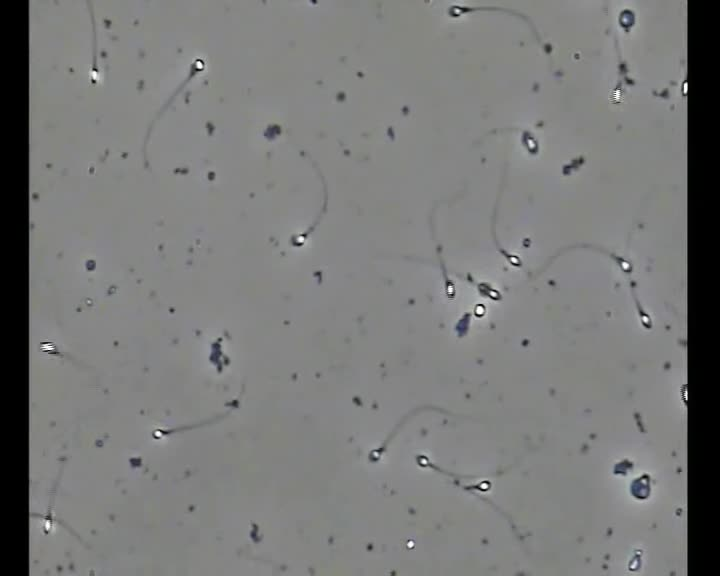spermhead: (630, 473, 651, 499), (477, 282, 500, 300), (521, 130, 538, 154), (618, 8, 635, 31), (455, 312, 471, 336), (463, 479, 491, 492), (613, 458, 633, 475), (614, 255, 632, 273), (448, 4, 470, 18), (627, 550, 641, 572), (40, 340, 60, 355), (190, 57, 206, 75), (503, 251, 521, 267), (43, 513, 56, 534), (610, 82, 622, 103), (368, 446, 383, 462), (89, 65, 101, 85), (416, 454, 431, 469), (291, 232, 307, 246), (640, 310, 652, 328), (473, 303, 486, 318), (152, 428, 168, 440), (445, 280, 455, 298), (224, 399, 239, 409), (681, 383, 687, 405), (681, 78, 687, 96), (407, 538, 415, 549)
